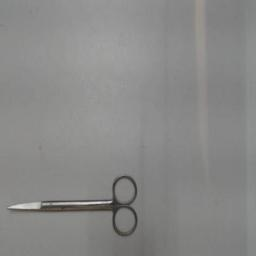Curved Mayo Scissors: (4, 168, 142, 240)
